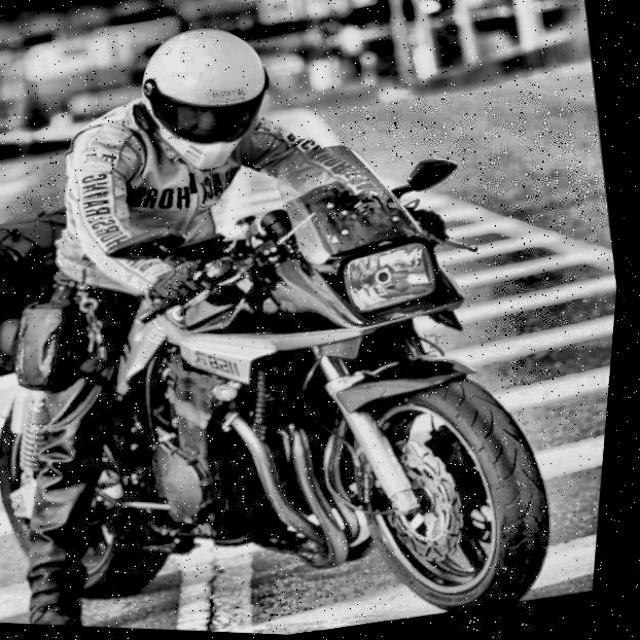Helmet: (122, 15, 297, 194)
